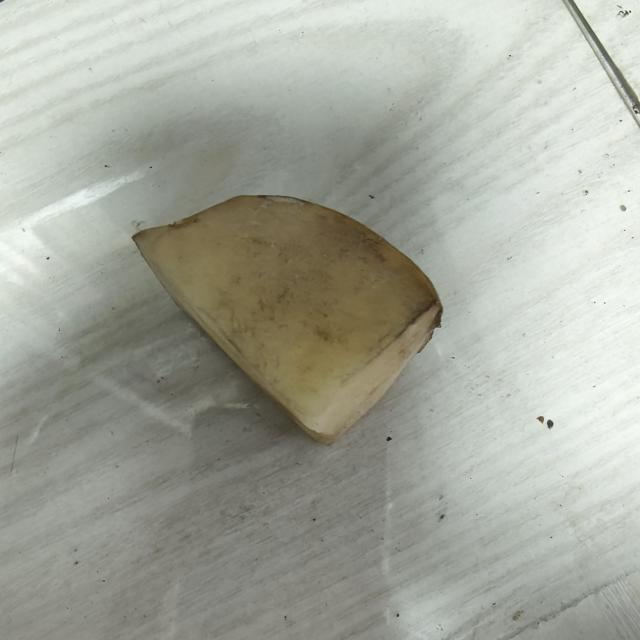-Kitchen waste - potato-: (132, 186, 448, 440)
